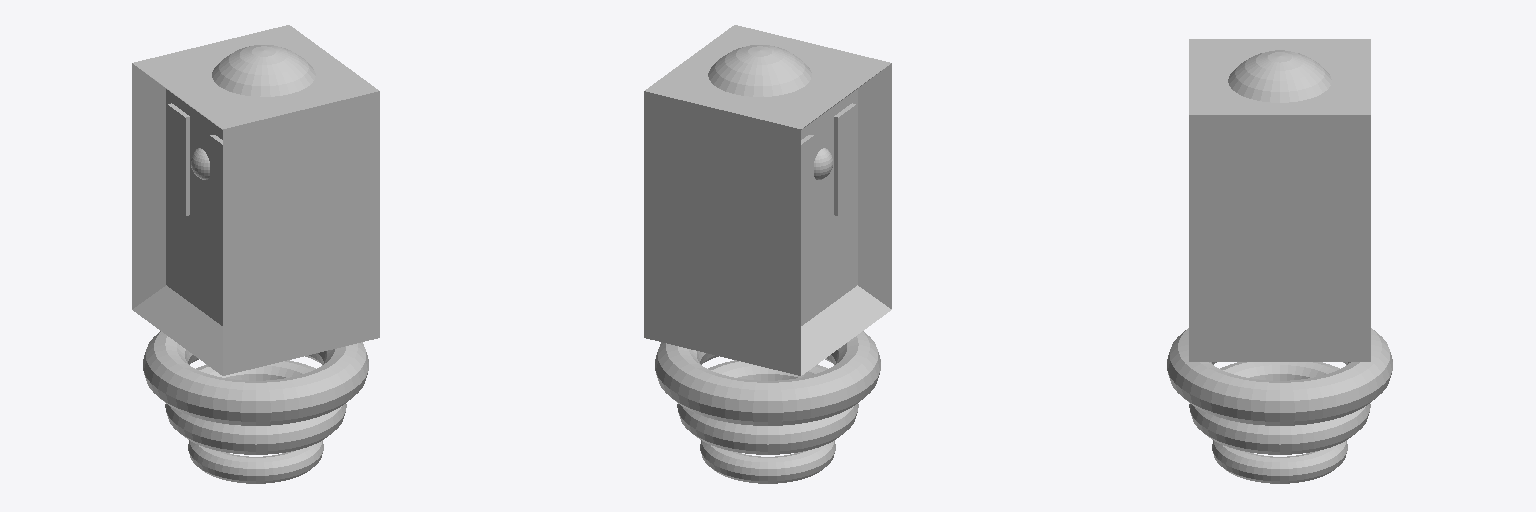
Rendered from DefaultDroid.obj.
The picture shows the model from 3 angles: view 1: azimuth 30°, elevation 25°; view 2: azimuth 150°, elevation 25°; view 3: azimuth 270°, elevation 25°; orthographic projection.
Visible parts, largest first — view 1: Cube, Torus.001, Torus.002, Sphere.001, Torus, Cube.002, Cube.001; view 2: Cube, Torus.001, Torus.002, Sphere.001, Torus, Cube.001, Cube.002; view 3: Cube, Torus.001, Torus.002, Sphere.001, Torus.
Part boxes in pixels (left/top/right/bottom): Cube: left=132, top=25, right=379, bottom=375; Torus.001: left=143, top=331, right=368, bottom=425; Torus.002: left=165, top=360, right=346, bottom=454; Sphere.001: left=212, top=45, right=315, bottom=96; Torus: left=188, top=440, right=323, bottom=483; Cube.002: left=167, top=103, right=189, bottom=215; Cube.001: left=210, top=135, right=222, bottom=242; Cube: left=644, top=25, right=891, bottom=375; Torus.001: left=655, top=331, right=880, bottom=425; Torus.002: left=677, top=360, right=858, bottom=454; Sphere.001: left=708, top=45, right=811, bottom=96; Torus: left=700, top=440, right=835, bottom=483; Cube.001: left=834, top=103, right=856, bottom=215; Cube.002: left=801, top=135, right=813, bottom=242; Cube: left=1189, top=39, right=1370, bottom=361; Torus.001: left=1167, top=328, right=1392, bottom=425; Torus.002: left=1189, top=362, right=1370, bottom=454; Sphere.001: left=1228, top=50, right=1331, bottom=102; Torus: left=1212, top=440, right=1347, bottom=483.
Bounding box in the file's own units: 2.5 × 4.95 × 2.5.